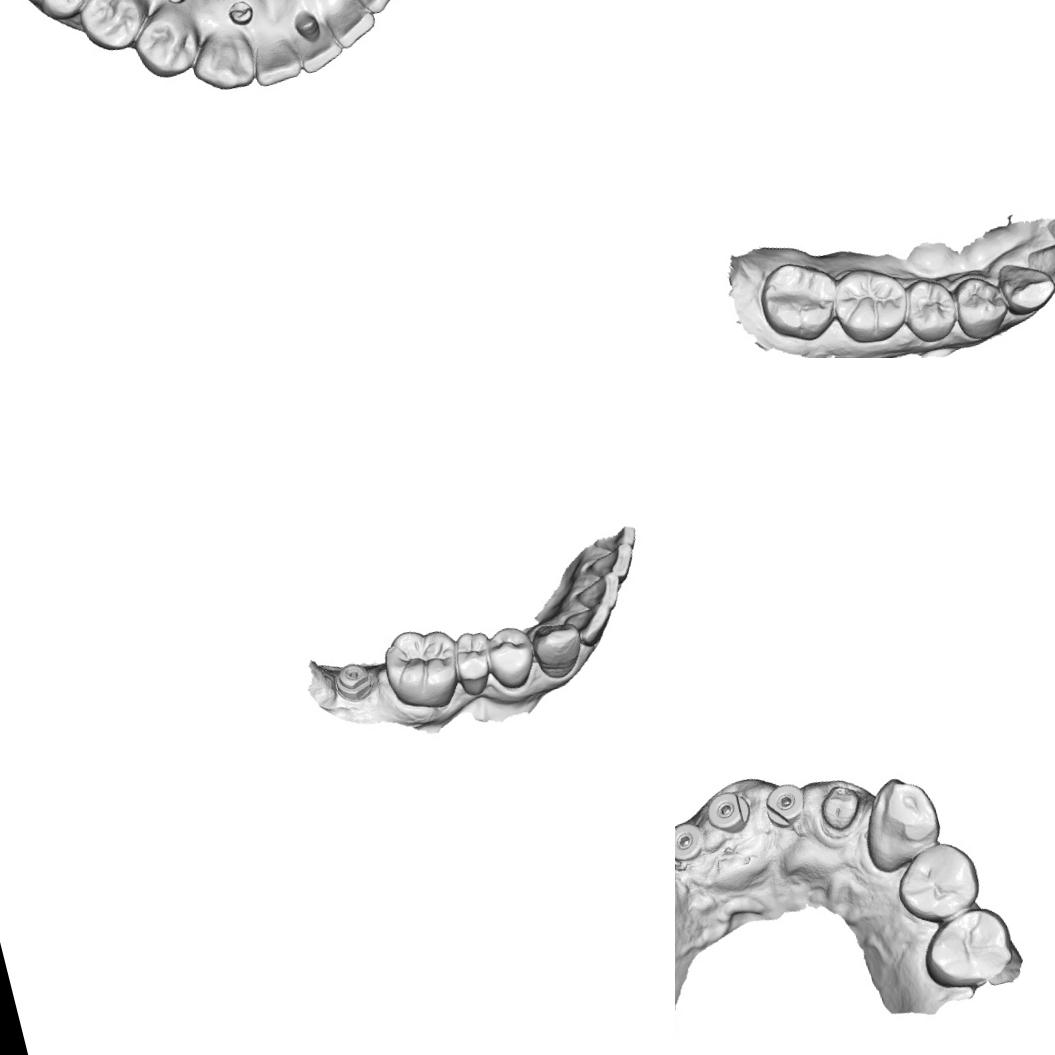canine: (848, 765, 950, 876), (185, 24, 260, 101), (525, 614, 589, 684), (992, 251, 1055, 319)
crown: (809, 776, 870, 838)
implant: (698, 782, 762, 844), (760, 776, 811, 826), (675, 818, 704, 861)
implant_minus: (330, 654, 376, 698)
incisor: (320, 0, 381, 55), (246, 36, 307, 90), (293, 26, 347, 75), (567, 598, 619, 648), (569, 575, 626, 619), (587, 521, 642, 560), (580, 546, 628, 586), (1023, 235, 1055, 294), (349, 0, 409, 17)
molar: (751, 251, 847, 350), (374, 618, 466, 718), (824, 257, 914, 352), (2, 0, 114, 26)
premolar: (912, 901, 1021, 996), (886, 836, 985, 928), (130, 5, 203, 83), (894, 271, 963, 348), (946, 268, 1015, 344), (476, 620, 542, 695), (75, 0, 151, 57), (446, 624, 499, 698)
